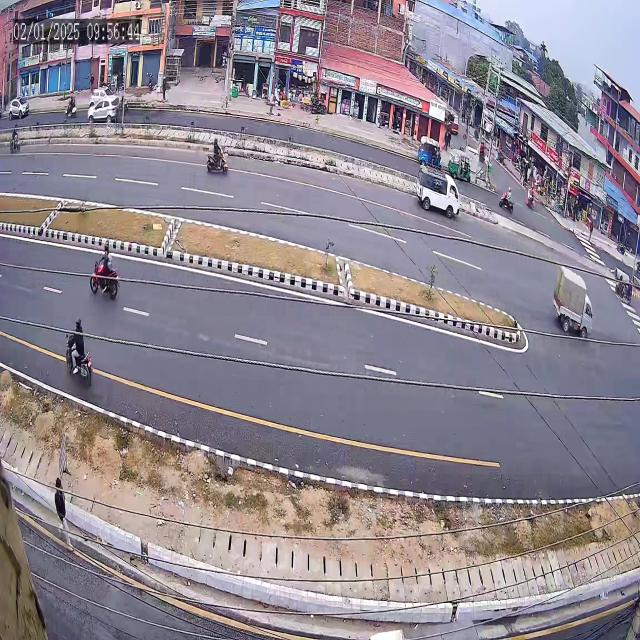car: (84, 98, 122, 128)
motorcycle: (57, 308, 99, 398), (86, 236, 126, 312), (199, 135, 231, 184), (496, 185, 520, 218), (62, 87, 81, 126)
van: (409, 158, 465, 230)
